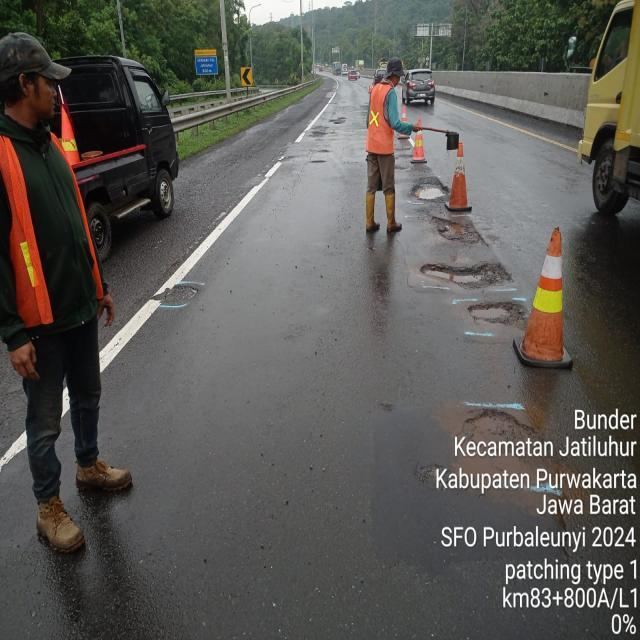Buraco: (461, 406, 539, 448), (418, 260, 513, 290), (428, 215, 485, 248), (466, 300, 530, 326), (148, 282, 202, 307), (408, 176, 452, 204), (327, 115, 349, 126), (393, 165, 415, 175), (307, 130, 330, 138), (394, 153, 413, 161), (393, 147, 412, 152), (316, 149, 332, 154), (310, 160, 326, 164)
